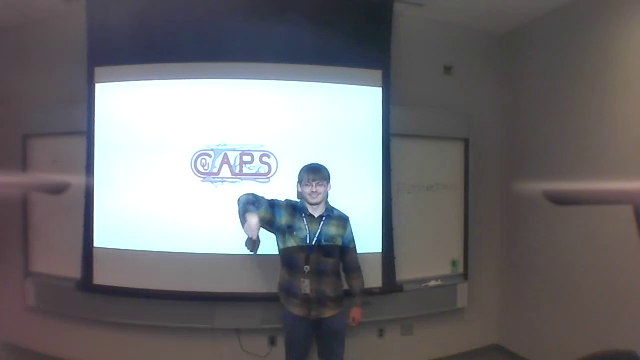down: (238, 211, 264, 261)
